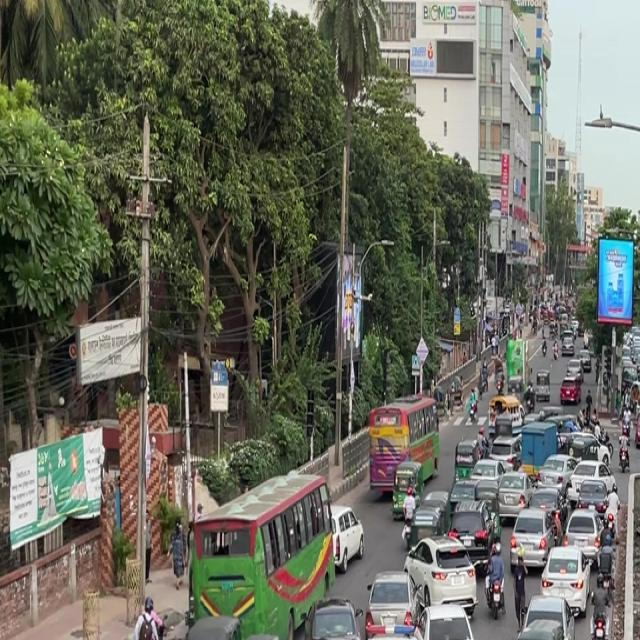car: (423, 538, 479, 620), (540, 539, 592, 623), (362, 561, 417, 640), (413, 589, 485, 640), (508, 506, 552, 579), (445, 499, 495, 562), (328, 615, 444, 640), (562, 500, 601, 565), (522, 587, 569, 640), (493, 466, 532, 526), (534, 454, 572, 511), (570, 468, 612, 518)
motorbike: (129, 595, 174, 640), (485, 550, 506, 618), (597, 530, 618, 598), (585, 594, 613, 640), (479, 508, 501, 561), (601, 495, 621, 546)
rickshaw: (177, 610, 241, 640), (508, 620, 570, 640), (214, 624, 288, 640)
